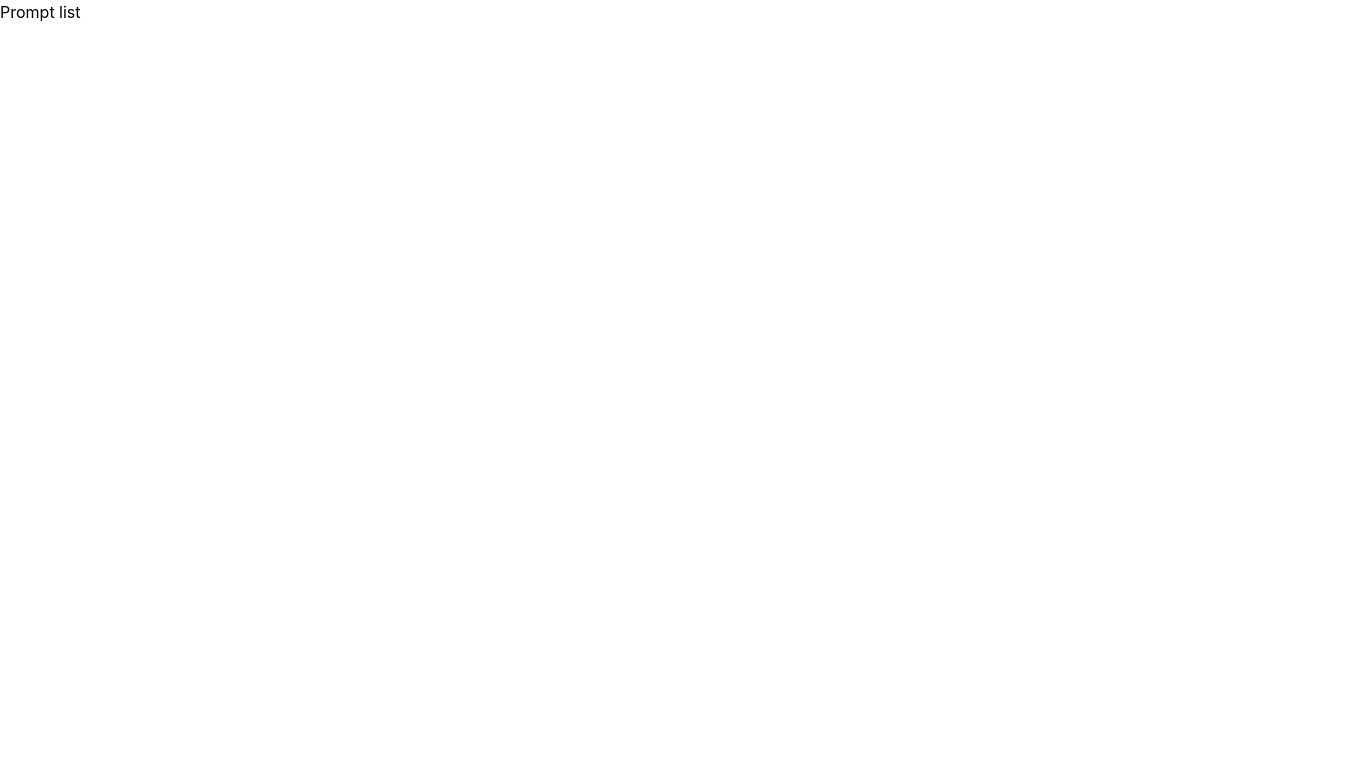
Test: opening and closing › closes when the backdrop is clicked
Type keys "{Control>}k{/Control}"
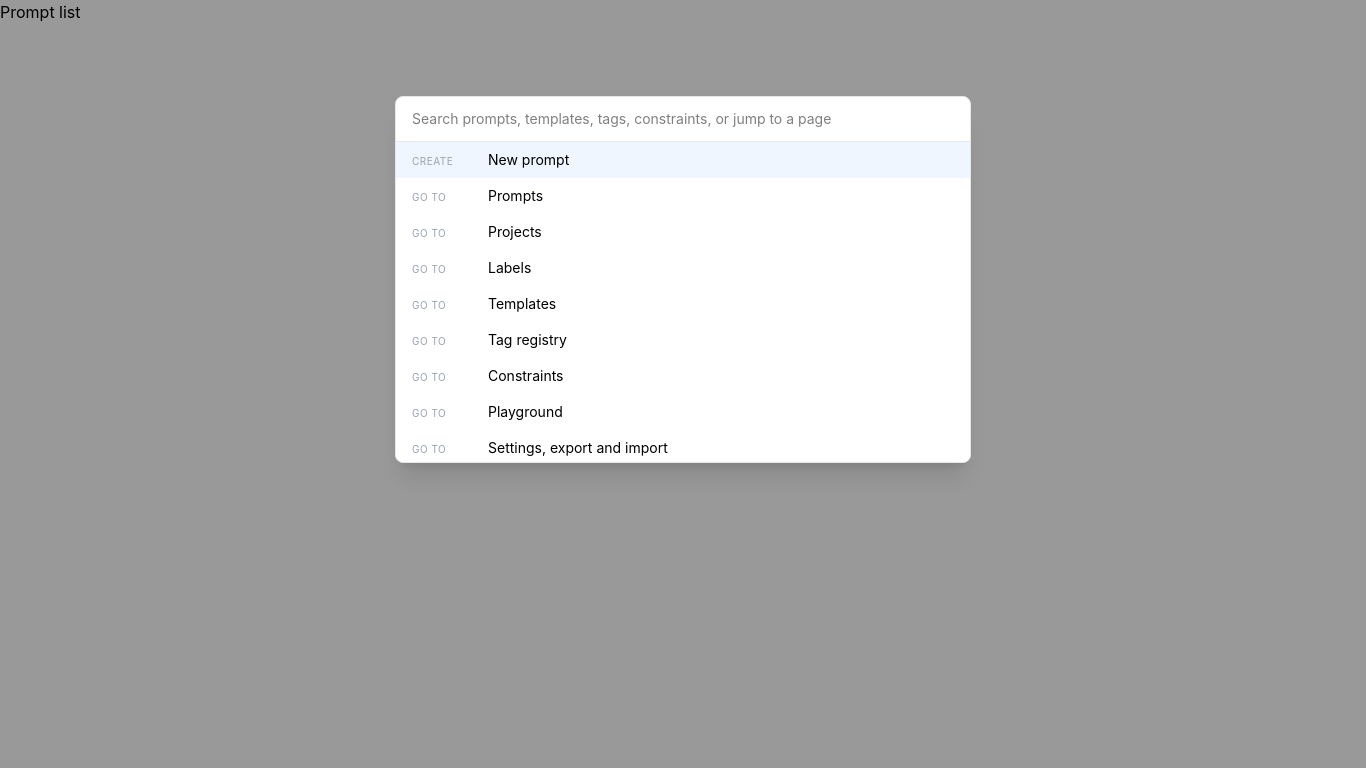
Click the element that starts with "Create". click: (82, 384)
box: [0, 0, 1365, 767]
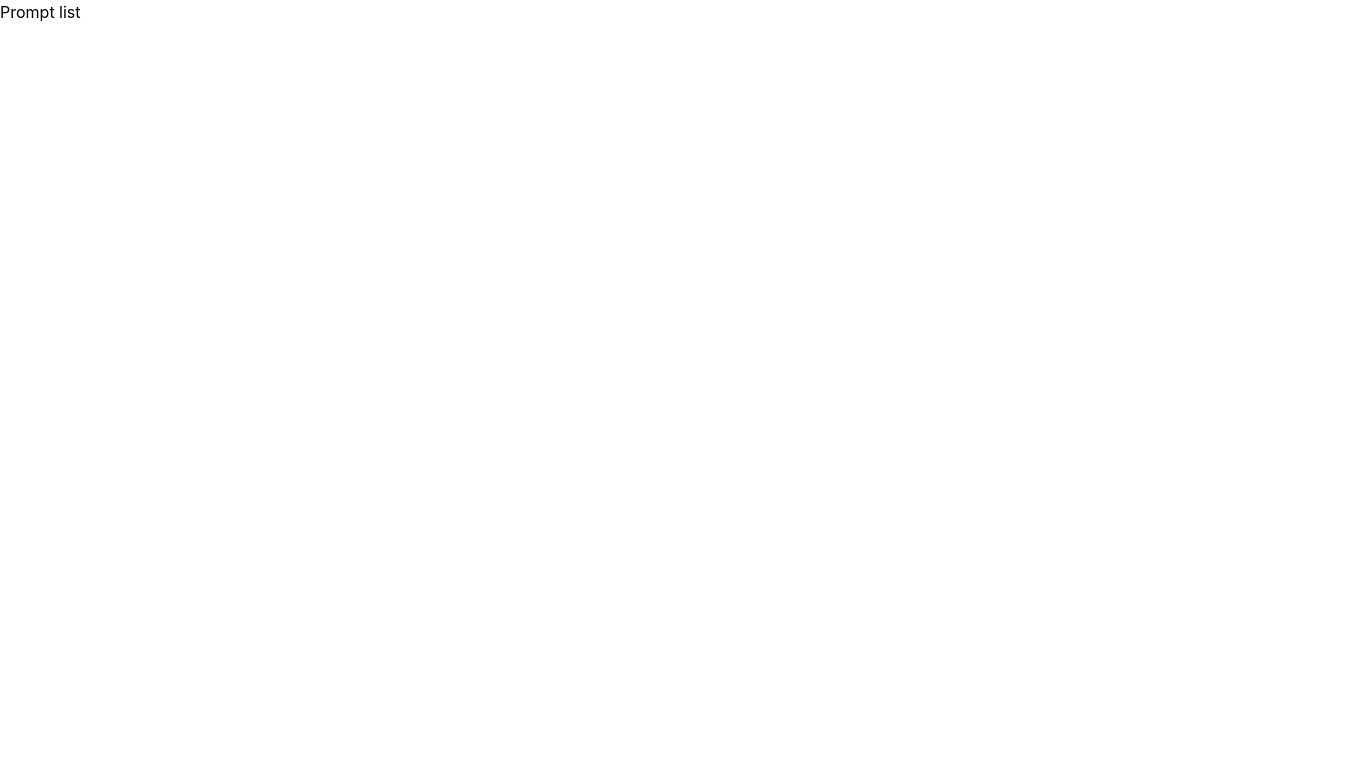
Check: the dialog is gone
